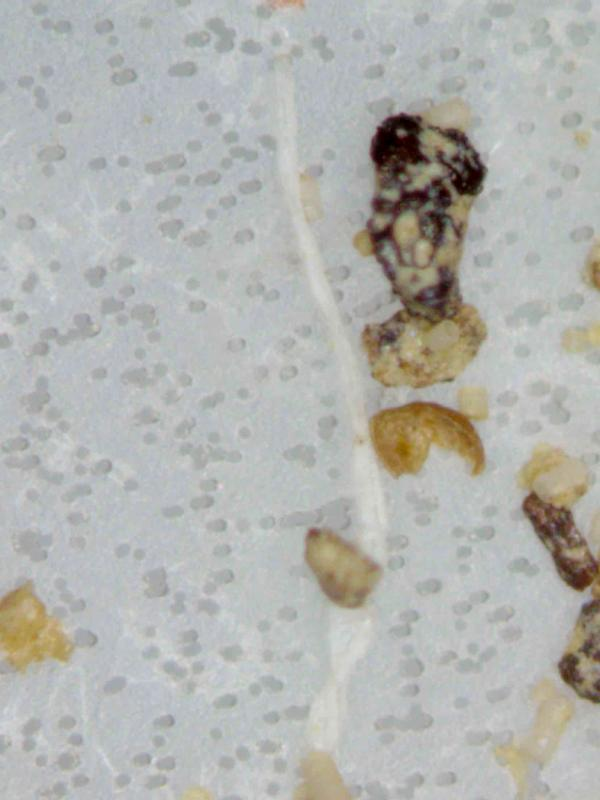microplastic: (357, 110, 490, 391), (512, 435, 600, 707)
